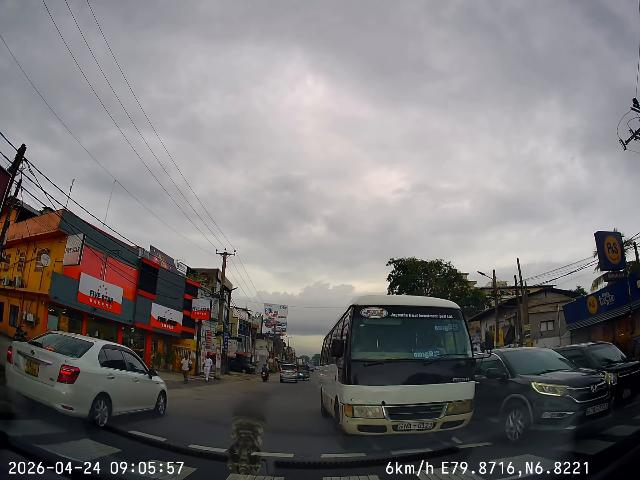illegal overtaking: (310, 294, 484, 443)
number plate: (390, 413, 437, 439)
